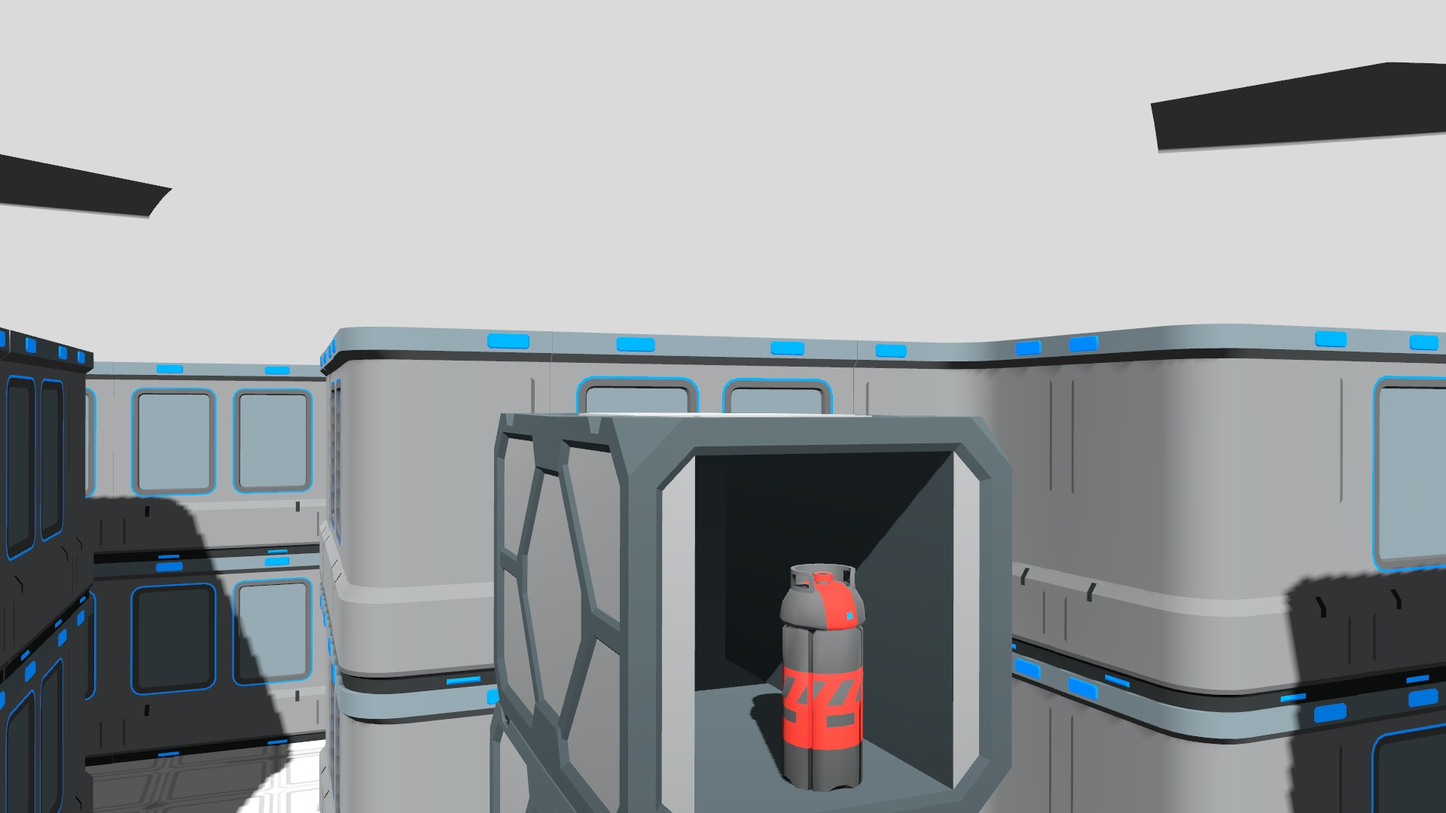red_barrel: (778, 556, 869, 798)
